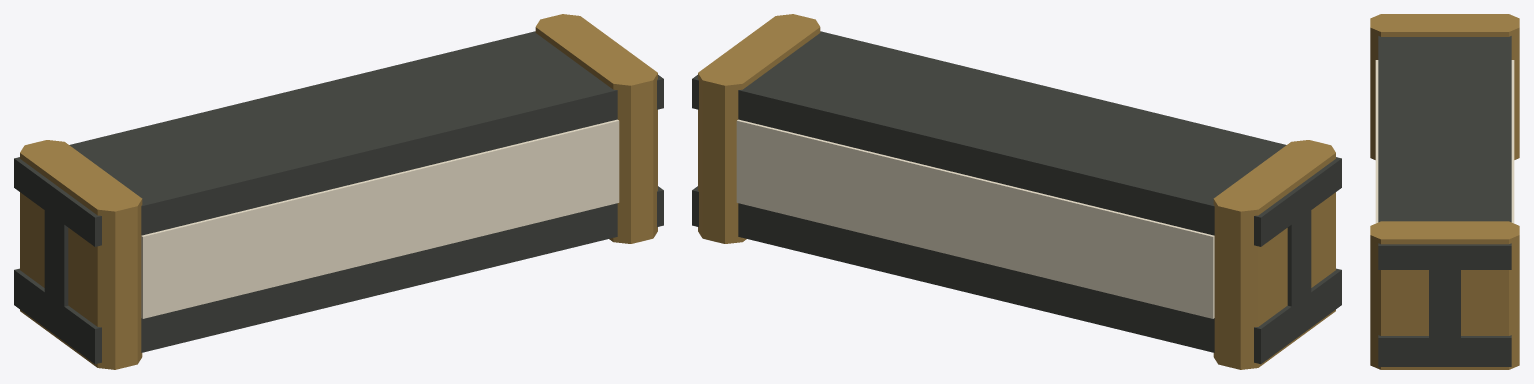
The model's file is b3_beam.glb.
3 renders of one model, left to right at view 1: azimuth 30°, elevation 25°; view 2: azimuth 150°, elevation 25°; view 3: azimuth 270°, elevation 25°, orthographic. The views are drawn at different scales.
Parts seen in each view (by area): view 1: b3_beam; view 2: b3_beam; view 3: b3_beam.
Part boxes in pixels (x1,y1,x2,y2): b3_beam: (14, 14, 663, 369); b3_beam: (692, 14, 1341, 369); b3_beam: (1370, 14, 1519, 369).
Size of the model in its own units: 2.03 by 0.54 by 0.56.
